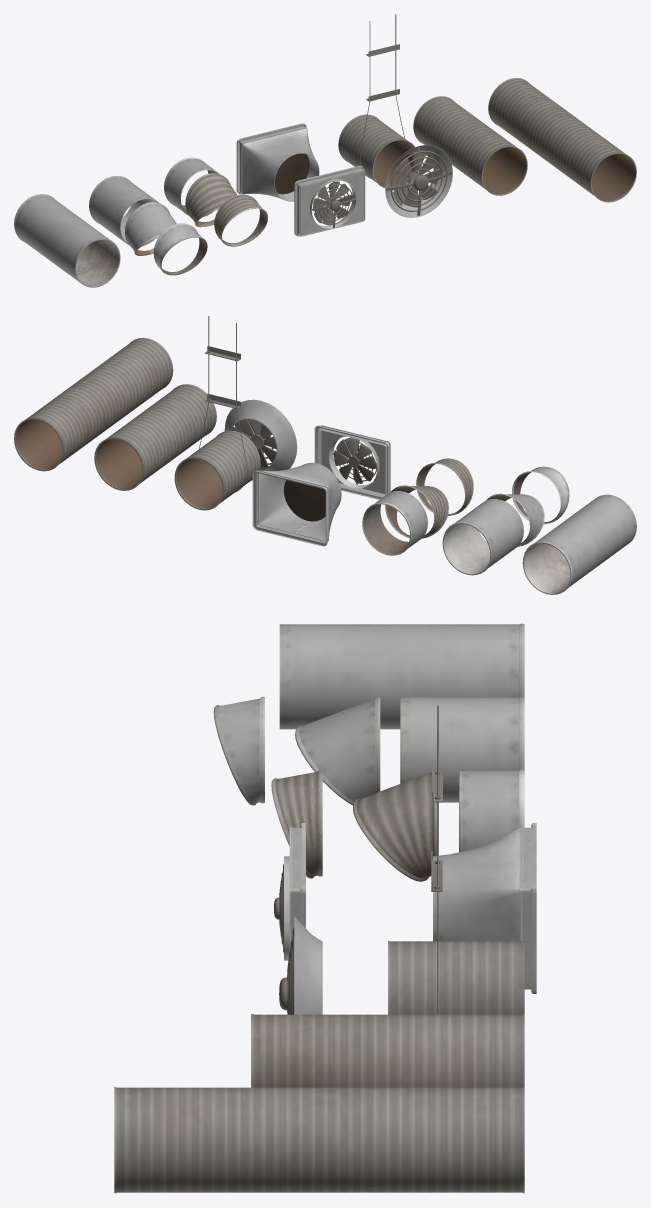
The model's file is modular_airduct_circular_01.glb.
The picture shows the model from 3 angles, top to bottom: view 1: azimuth 30°, elevation 25°; view 2: azimuth 150°, elevation 25°; view 3: azimuth 270°, elevation 25°; orthographic projection. The views are drawn at different scales.
Visible parts, largest first — view 1: modular_airduct_rectangular_vent_fan; view 2: modular_airduct_rectangular_vent_fan; view 3: modular_airduct_rectangular_vent_fan.
Boxes of the visible parts, x1,y1,x2,y2 form: modular_airduct_rectangular_vent_fan: [14, 14, 636, 287]; modular_airduct_rectangular_vent_fan: [14, 316, 636, 594]; modular_airduct_rectangular_vent_fan: [114, 623, 536, 1193].
Bounding box in the file's own units: 4.17 × 1.32 × 1.46.
Materials: 1 (1 with a texture image).
